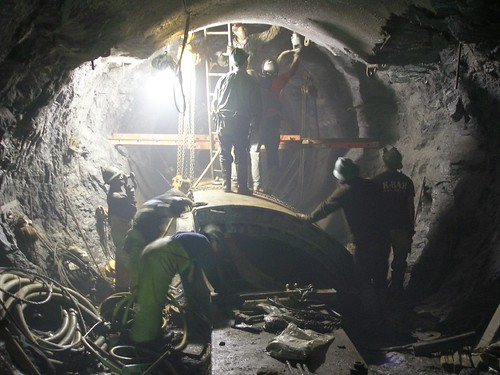person hardhat: (306, 154, 388, 321), (136, 225, 237, 351), (371, 142, 418, 302), (215, 48, 258, 201), (96, 165, 146, 295), (259, 57, 297, 199), (228, 20, 286, 65)
